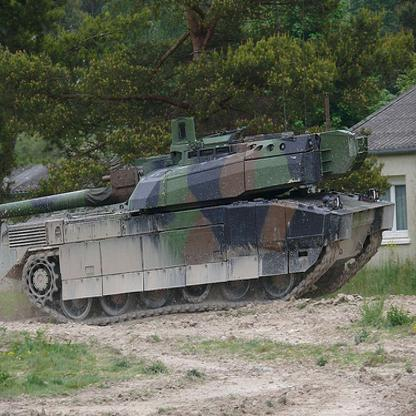Tank: (3, 118, 394, 328)
